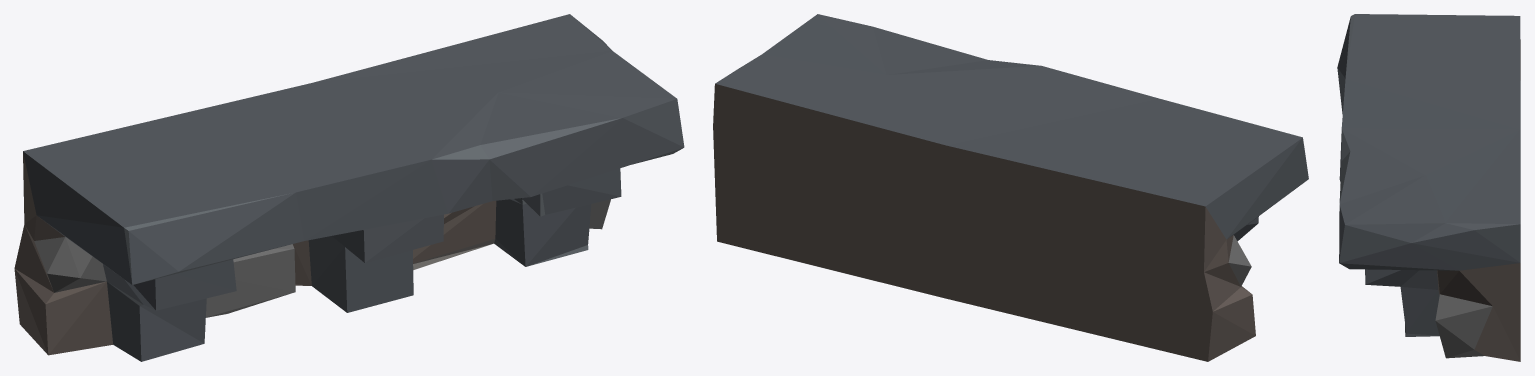
File: MCastle_Masonry_Corbel_01.FBX
3 renders of one model, left to right at view 1: azimuth 30°, elevation 25°; view 2: azimuth 150°, elevation 25°; view 3: azimuth 270°, elevation 25°, orthographic. The views are drawn at different scales.
Visible parts, largest first — view 1: MCastle_Masonry_Corbel_01_LOD0; view 2: MCastle_Masonry_Corbel_01_LOD0; view 3: MCastle_Masonry_Corbel_01_LOD0.
Boxes of the visible parts, x1=… form: MCastle_Masonry_Corbel_01_LOD0: x1=14, y1=14, x2=684, y2=361; MCastle_Masonry_Corbel_01_LOD0: x1=713, y1=14, x2=1308, y2=361; MCastle_Masonry_Corbel_01_LOD0: x1=1337, y1=14, x2=1520, y2=361.
Size of what is drawn, in the model's own units: 161 by 48.68 by 57.19.
